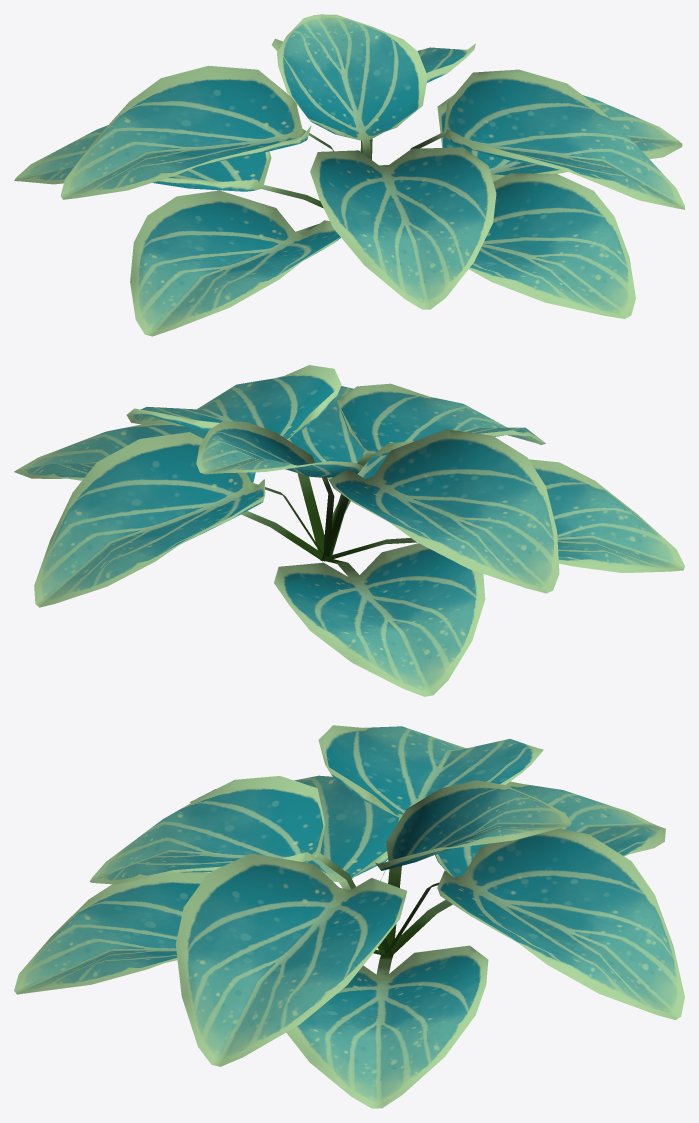
File: Hosta_G_01.fbx
3 views of the same model, one above another, from view 1: azimuth 30°, elevation 25°; view 2: azimuth 150°, elevation 25°; view 3: azimuth 270°, elevation 25° (orthographic). The views are drawn at different scales.
Visible parts, largest first — view 1: Hosta_G_01; view 2: Hosta_G_01; view 3: Hosta_G_01.
Part boxes in pixels (left/top/right/bottom): Hosta_G_01: left=14, top=14, right=684, bottom=336; Hosta_G_01: left=14, top=365, right=684, bottom=696; Hosta_G_01: left=14, top=725, right=684, bottom=1108.
Bounding box in the file's own units: 114 × 26.49 × 102.
